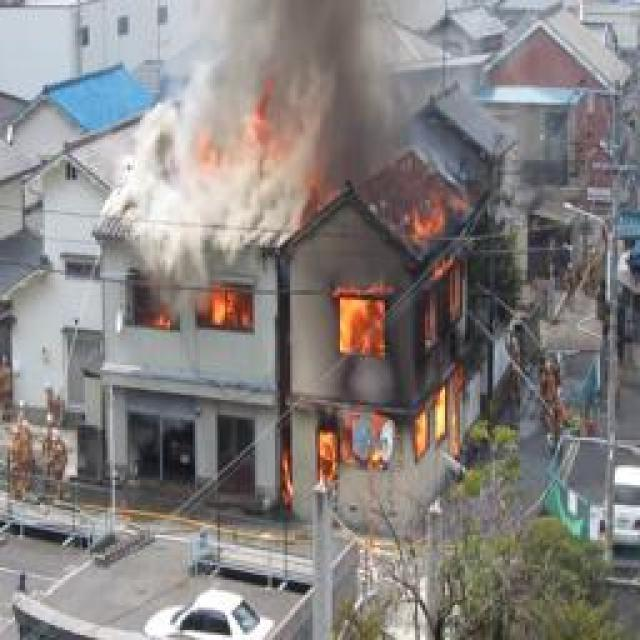Fire: (302, 188, 469, 485), (196, 291, 254, 328)
